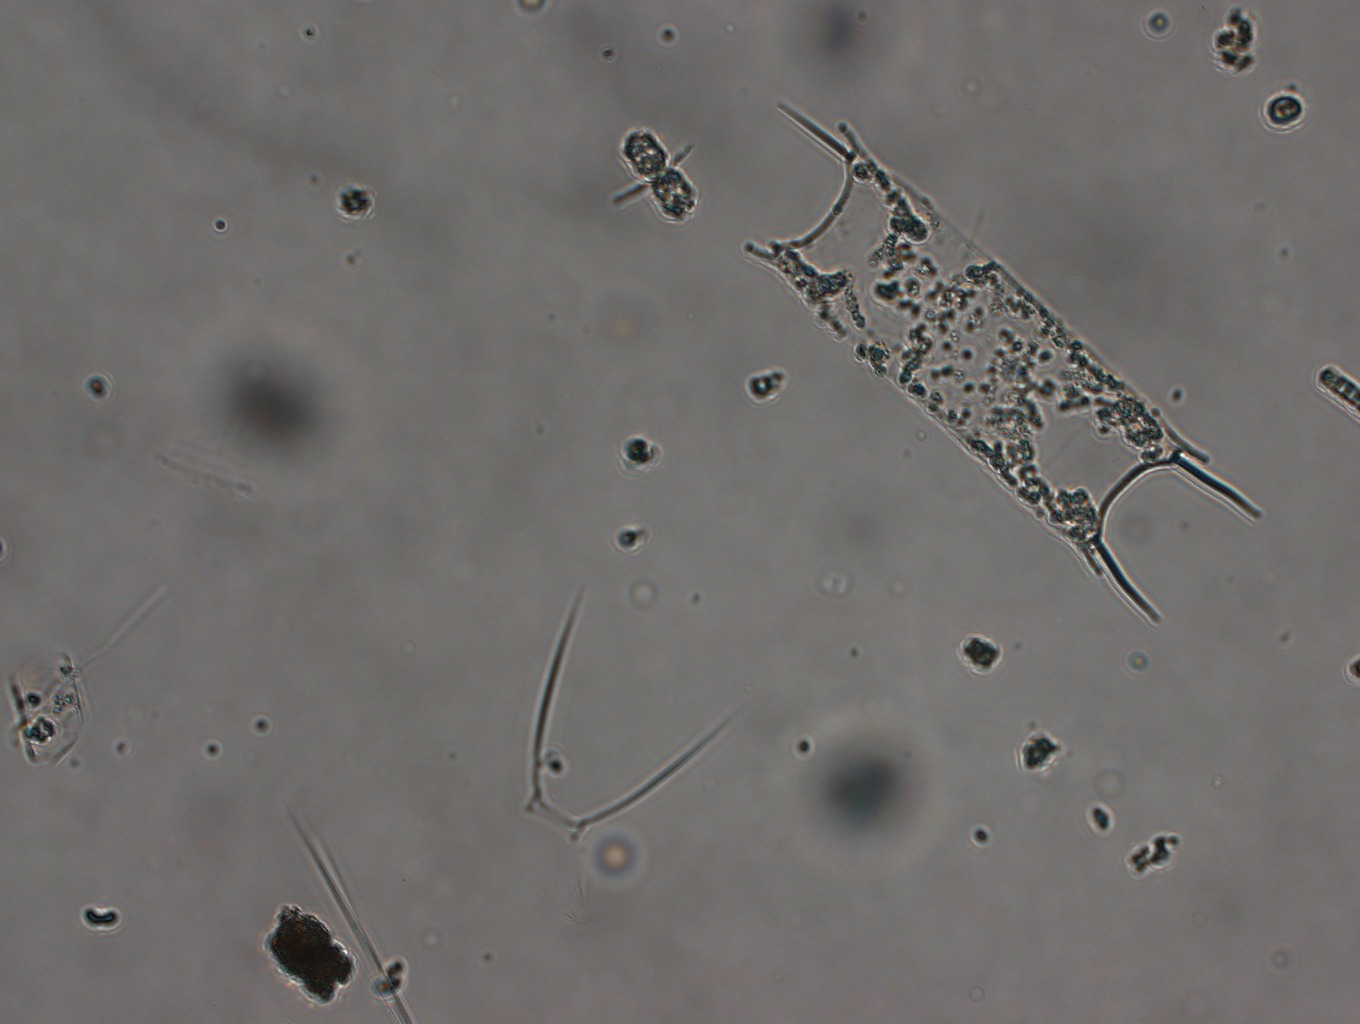biddulphia: (725, 86, 1278, 635)
chaetoceros: (512, 561, 743, 844)
